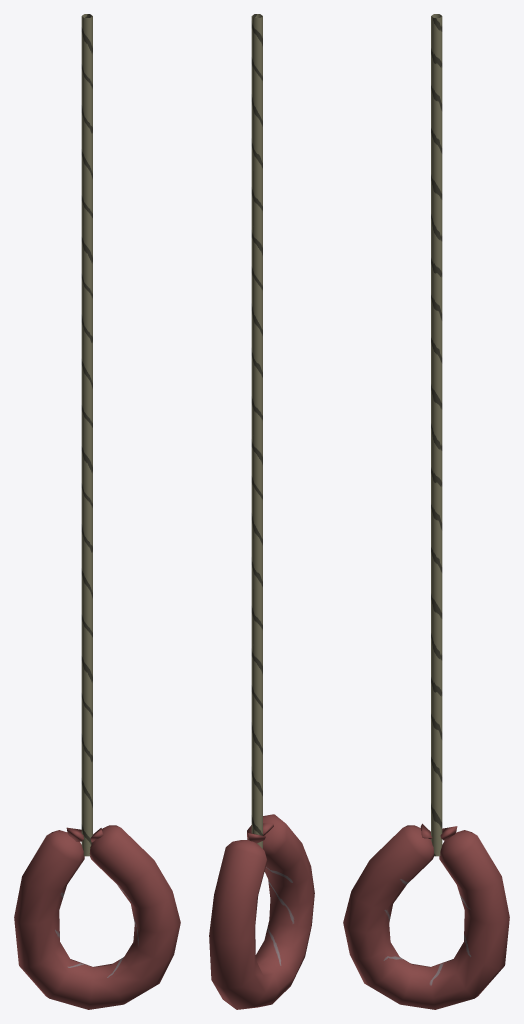
Rendered from Obj_Sausage02.fbx.
3 views of the same model, side by side, from view 1: azimuth 90°, elevation 25°; view 2: azimuth 150°, elevation 25°; view 3: azimuth 270°, elevation 25° (orthographic).
Visible parts, largest first — view 1: obj_sausage02; view 2: obj_sausage02; view 3: obj_sausage02.
Boxes of the visible parts, box(x1,y1,x2,y2) form: obj_sausage02: box(14, 14, 180, 1009); obj_sausage02: box(209, 14, 314, 1009); obj_sausage02: box(343, 14, 509, 1009).
Bounding box in the file's own units: 70.58 × 1491 × 227.
1 material, 1 textured.
